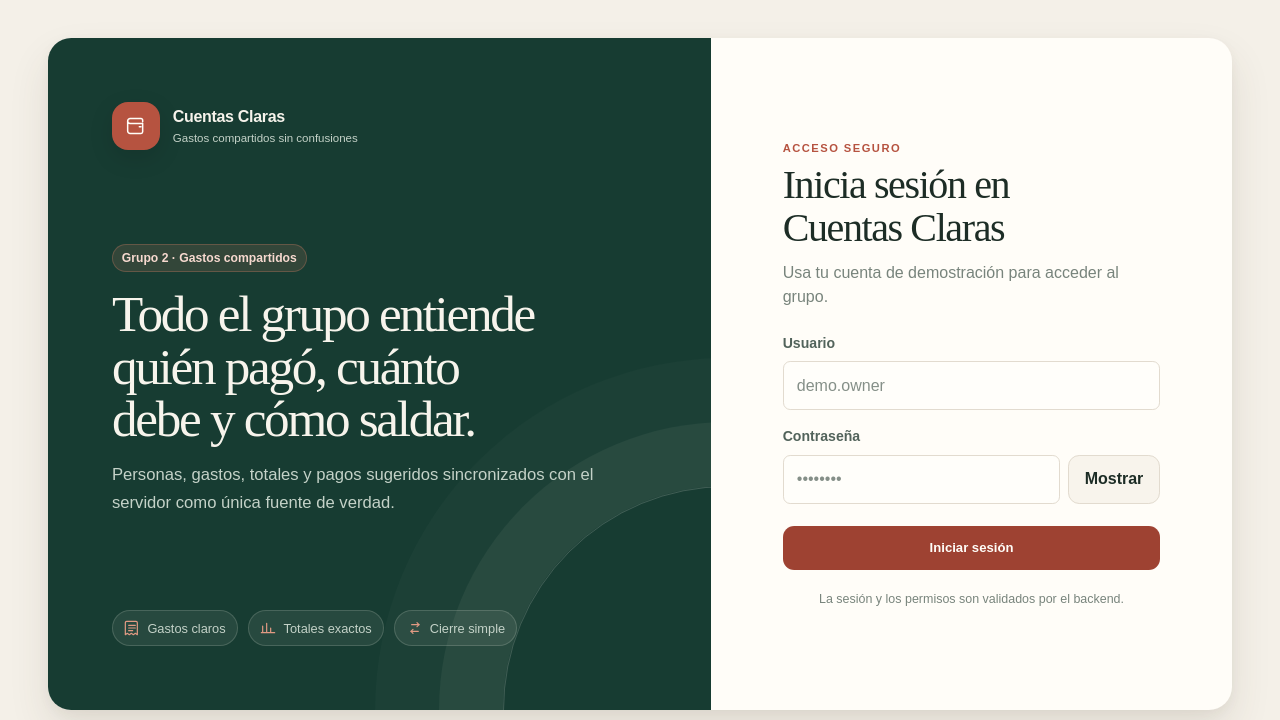
Test: login and logout › keeps invalid credentials on the login form and shows the inline error code
Step 1. Type "demo.member" into the field labelled "Usuario" → (972, 386), box [783, 361, 1160, 410]
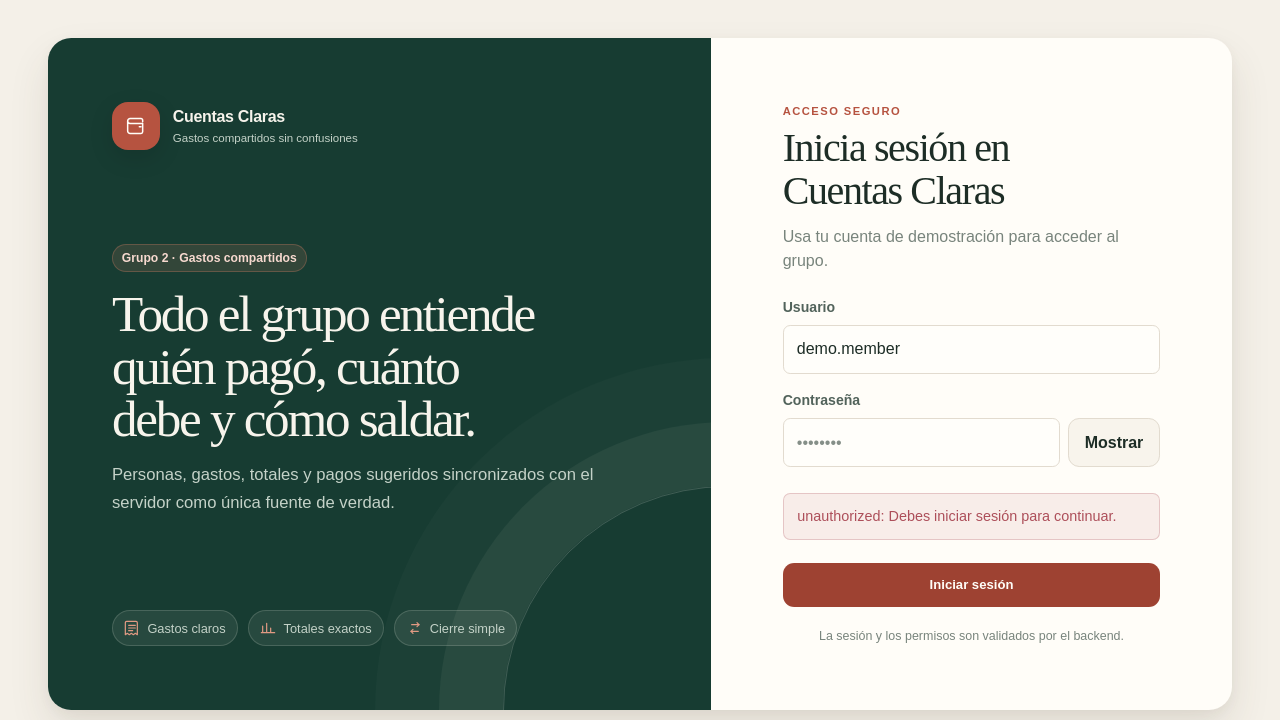
Step 2. Type "wrong-password" into the password field labelled "Contraseña" → (921, 443), box [783, 418, 1060, 467]
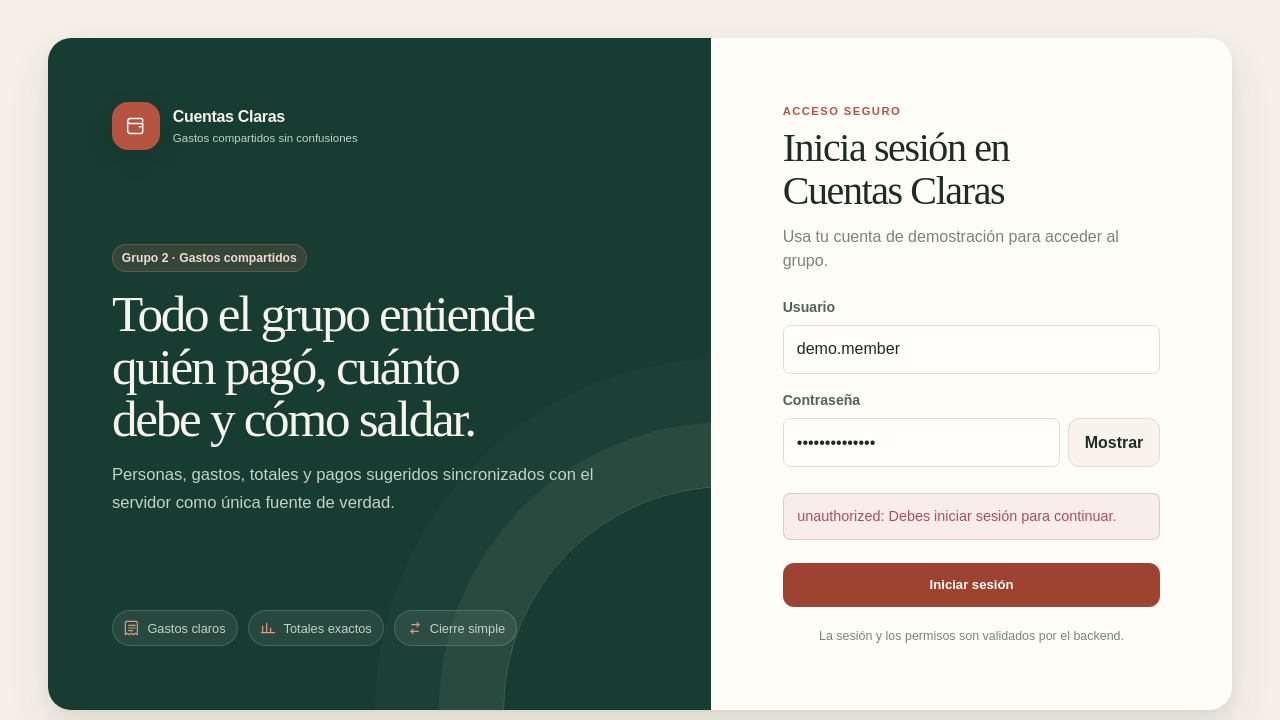
Step 3. Click the button "Iniciar sesión" → click(972, 585), box [783, 563, 1160, 607]
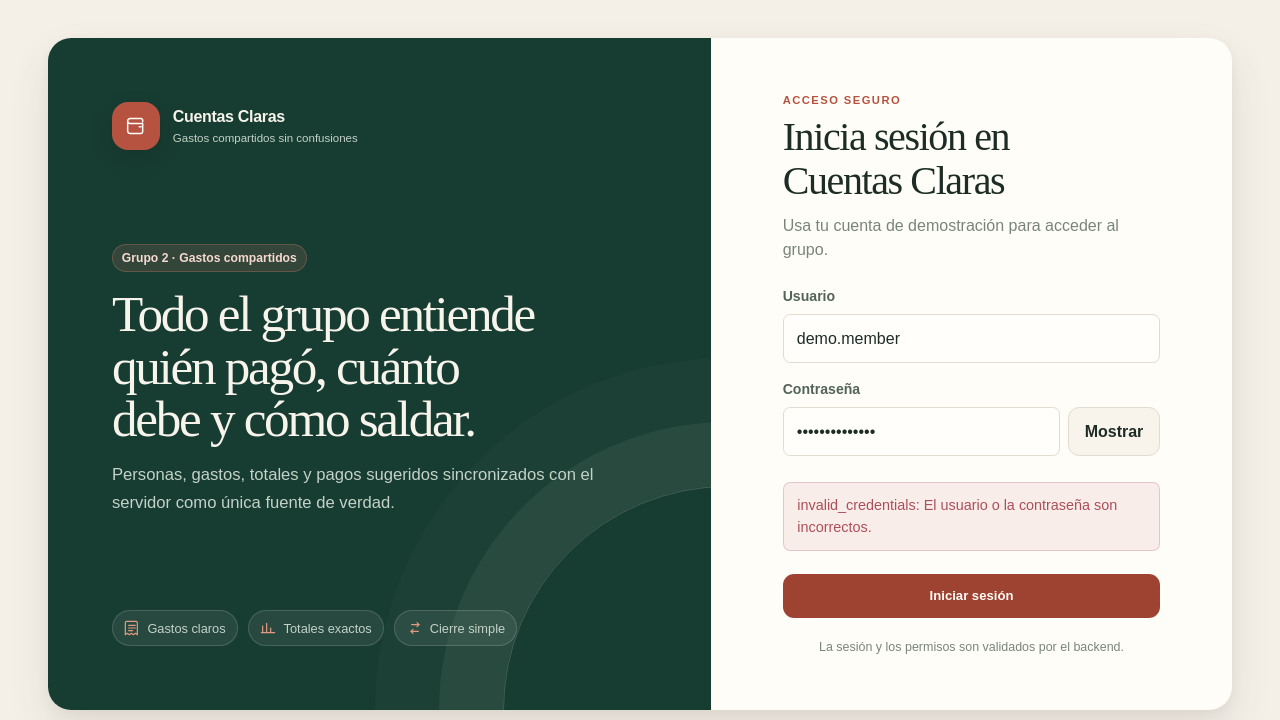
Check: the text "invalid_credentials: El usuario o la contraseña son incorrectos." is shown, box [783, 482, 1160, 551]
